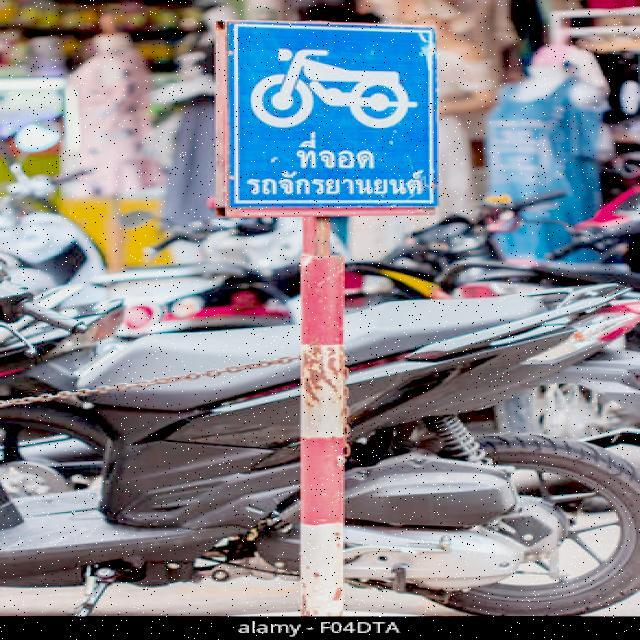Traffic sign: (204, 11, 452, 222)
